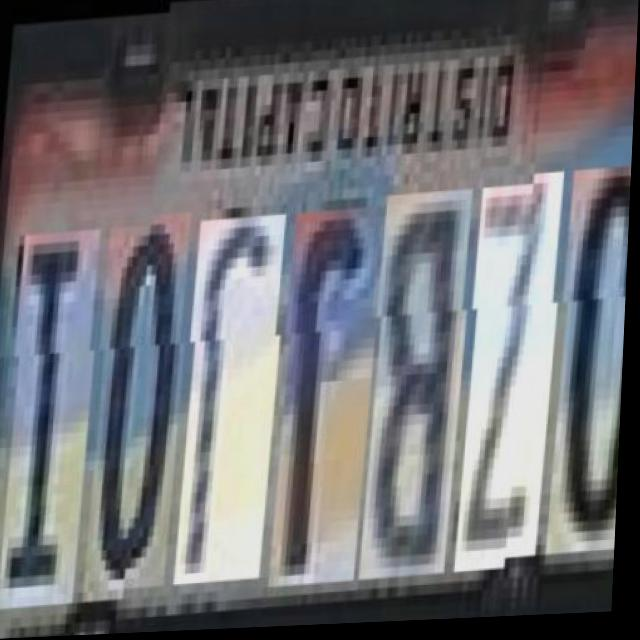b: (359, 192, 471, 582)
i: (0, 216, 99, 594)
j: (268, 208, 380, 587), (173, 213, 285, 584)
o: (83, 210, 188, 589), (544, 181, 633, 570)
z: (453, 185, 561, 575)
